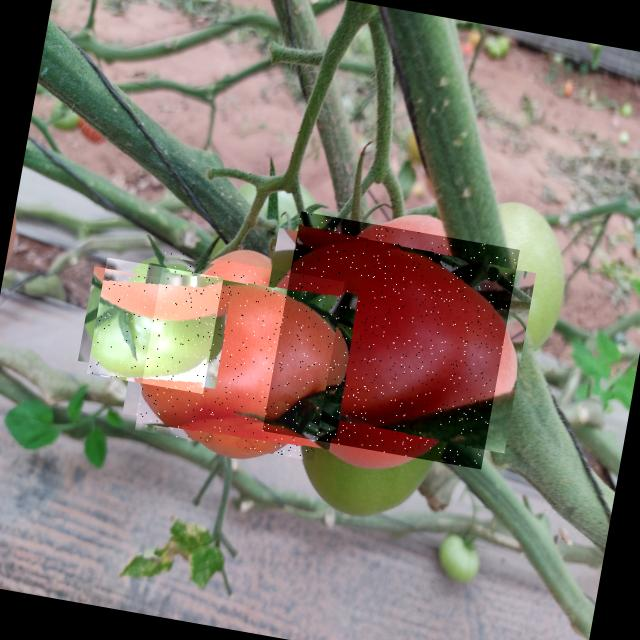Ripe Tomato: (262, 211, 519, 469), (133, 250, 344, 462)
Unripe Tomato: (86, 257, 223, 394)
